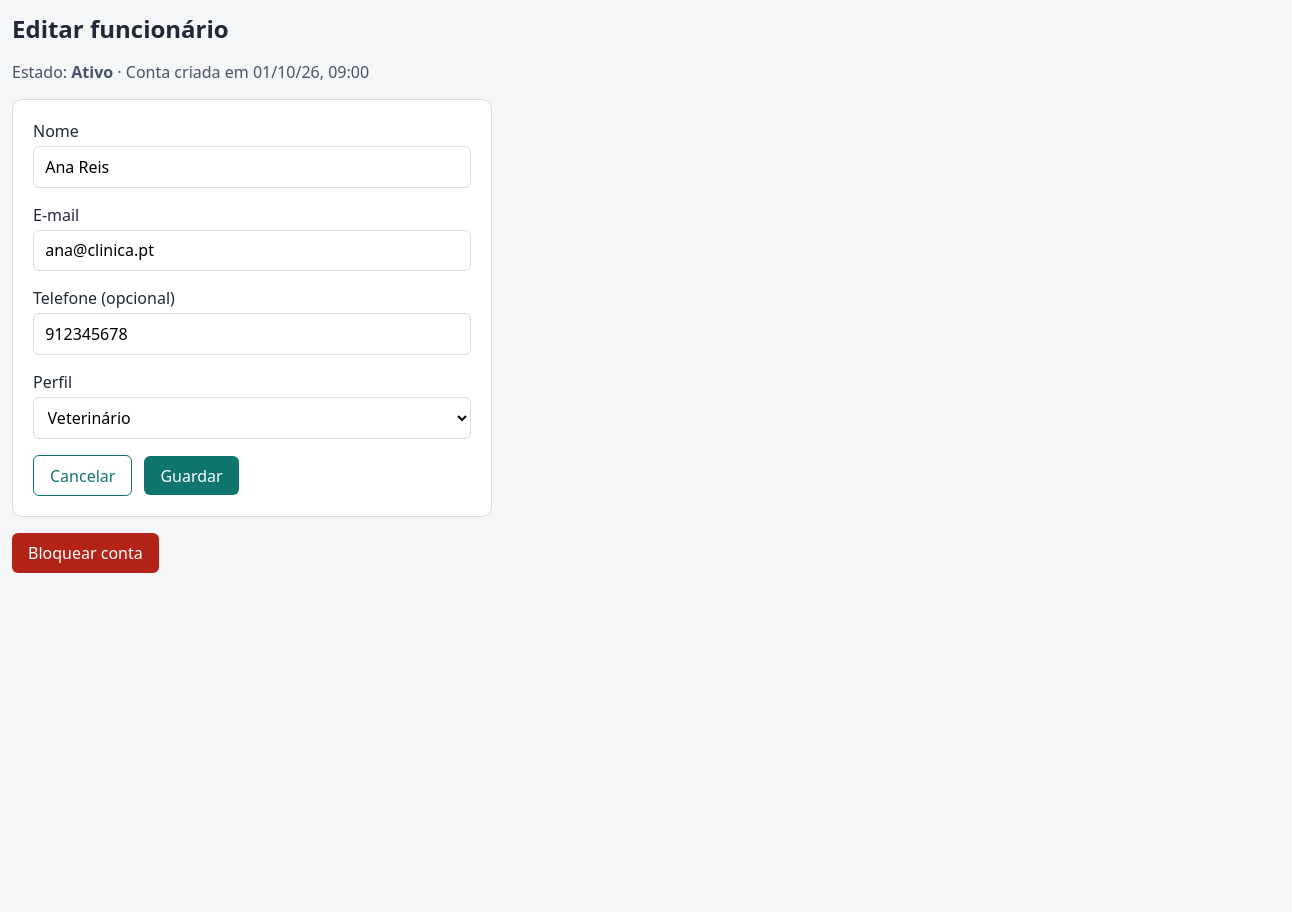
Test: W03 — criar e editar funcionário › ao editar carrega a conta, não pede palavra-passe e guarda
Expected: the field labelled "Nome" holds "Ana Reis", [33,146,471,188]
Expected: the text "Estado: Ativo · Conta criada em 01/10/26, 09:00" is shown, [12,61,369,83]
Select "Rececionista" in the dropdown labelled "Perfil": [252, 418] box [33,397,471,439]
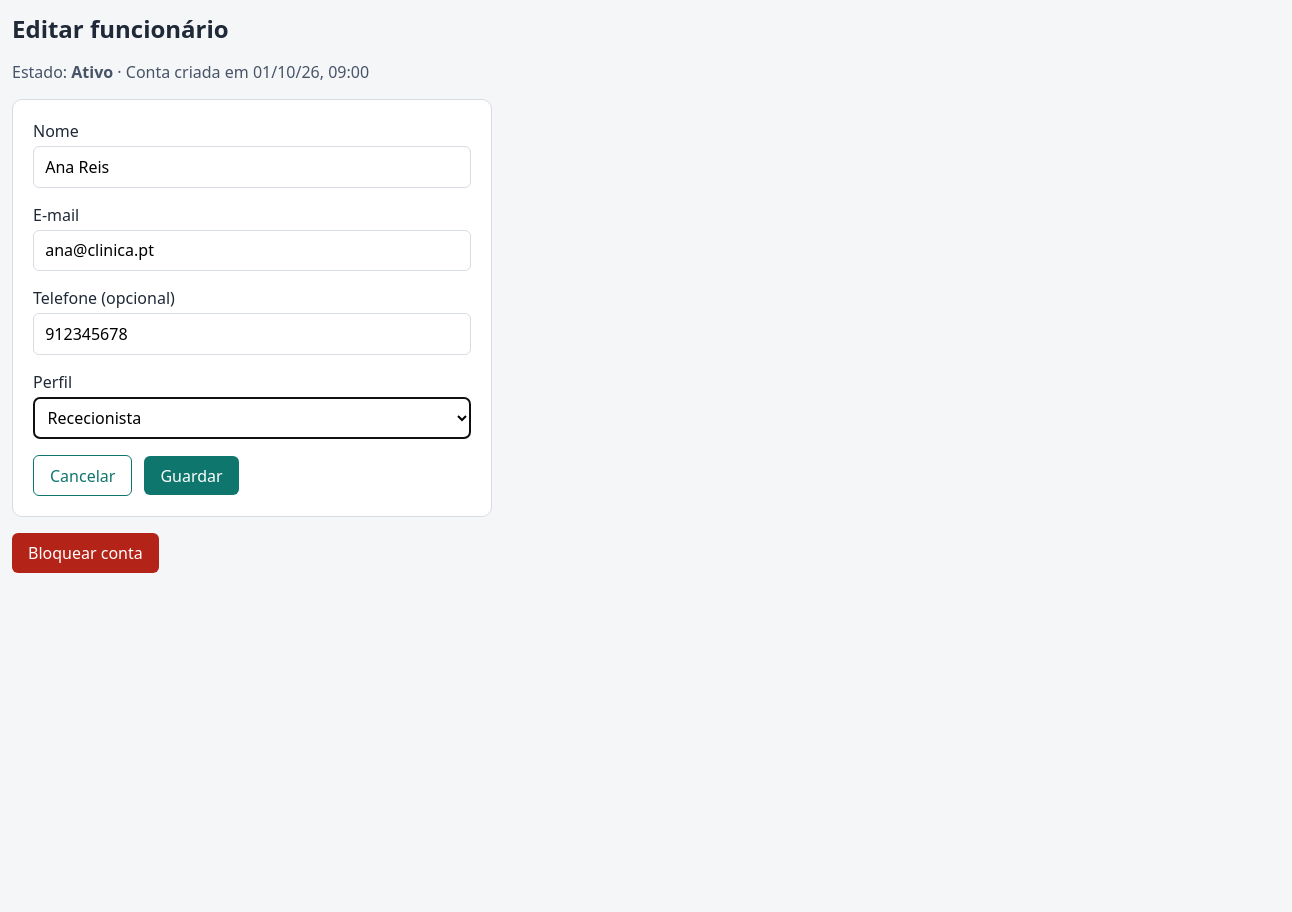
Click the button "Guardar": [192, 476] box [144,456,239,495]
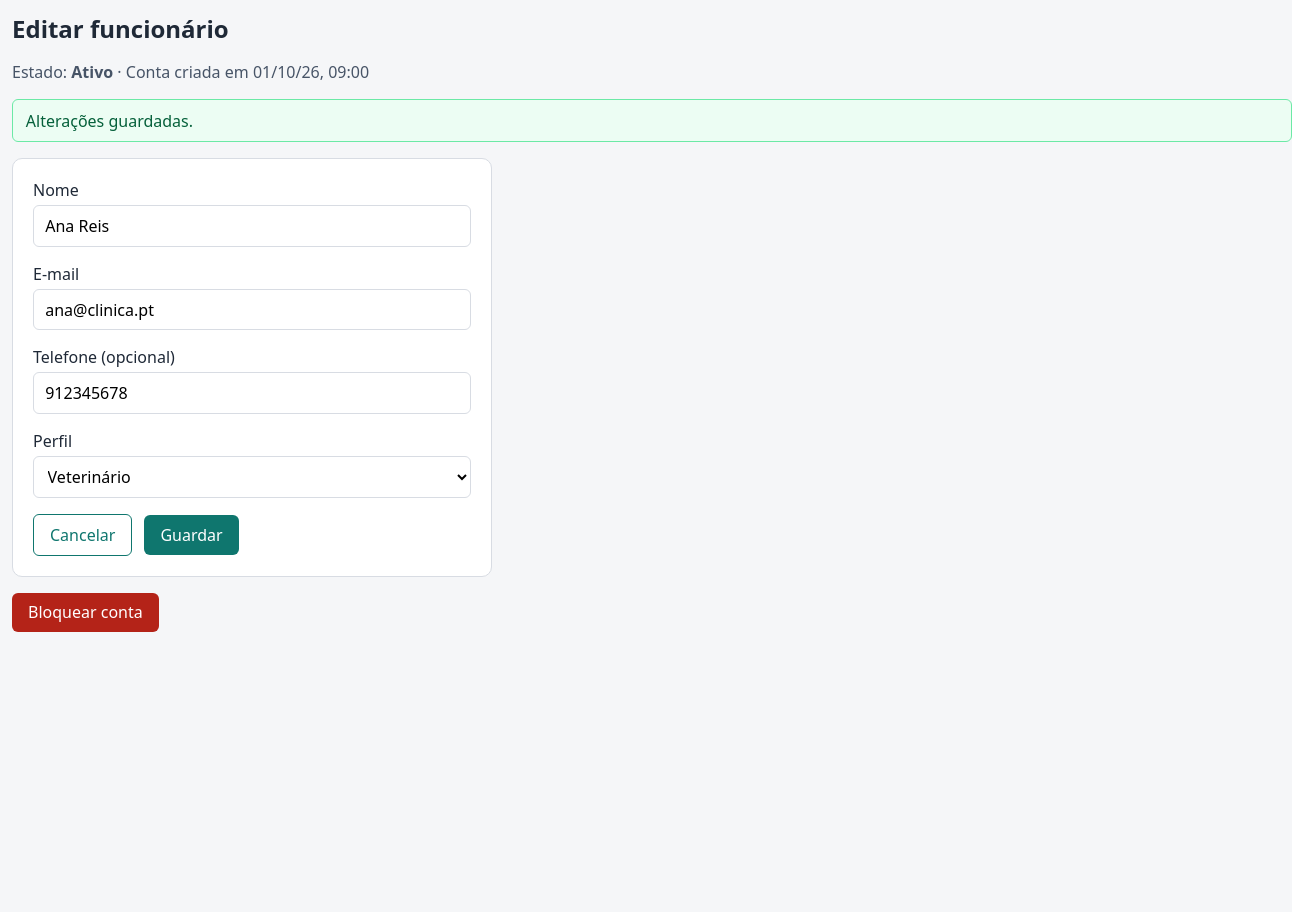
Expected: the text "Alterações guardadas." is shown, [12,99,1291,142]
